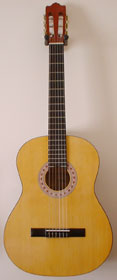guitar: (3, 3, 115, 278)
